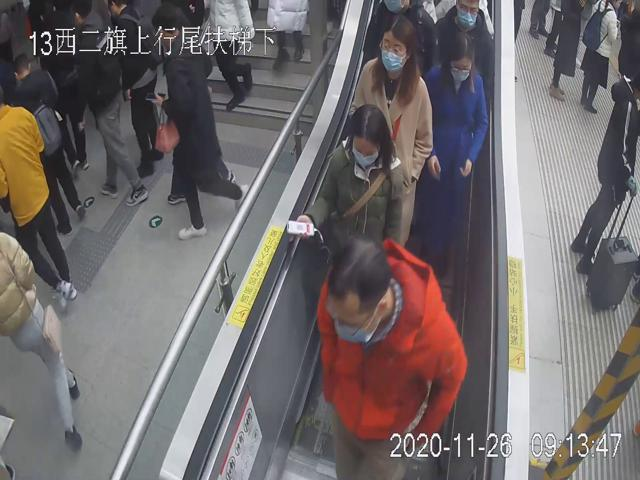person: (314, 233, 469, 480), (347, 13, 434, 253), (291, 103, 405, 282), (416, 31, 487, 266), (432, 0, 496, 104)
